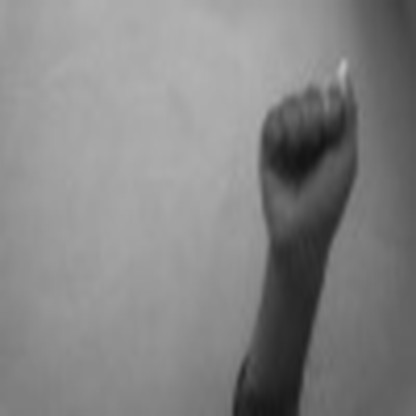a: (255, 57, 365, 249)
